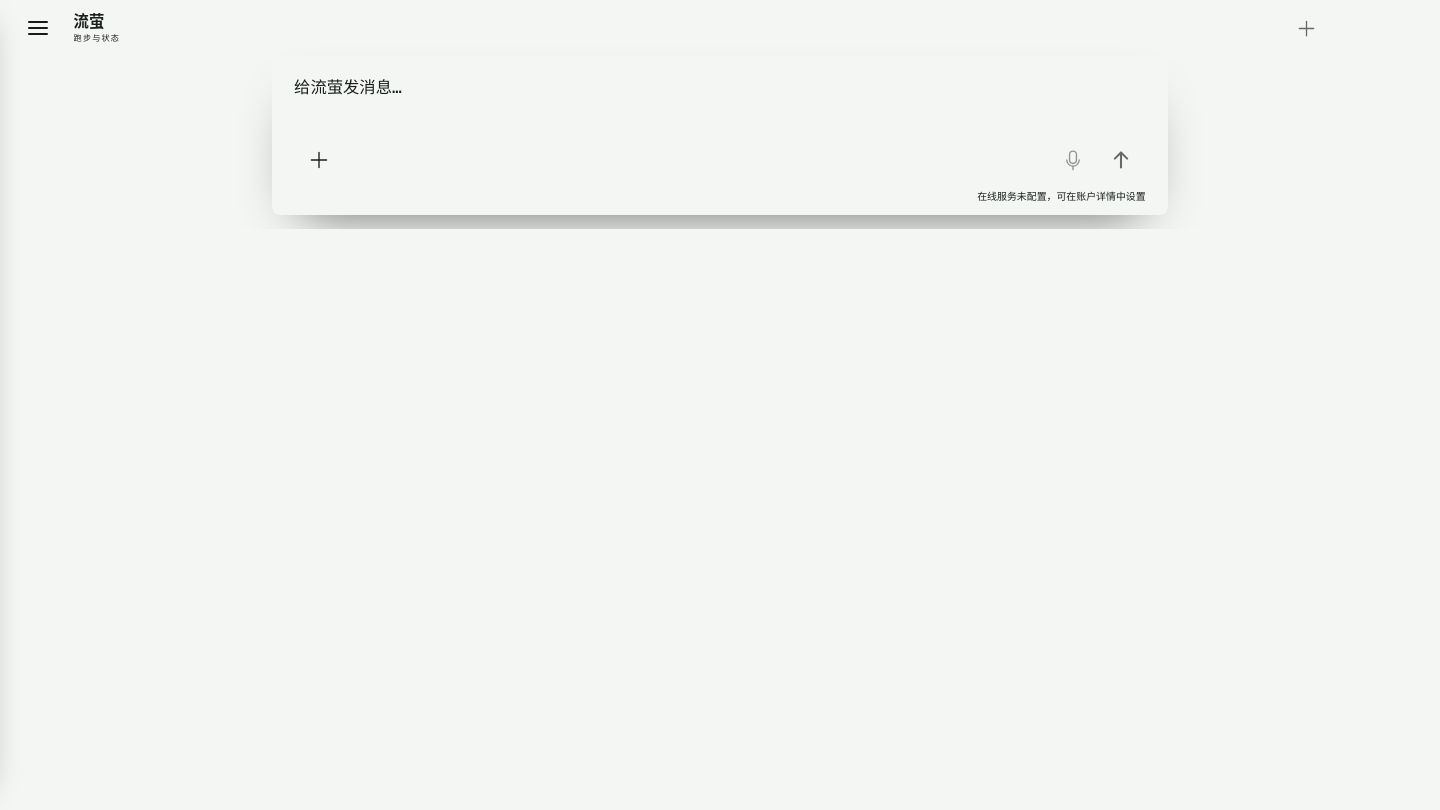
麦克风和发送为图标，低频保存藏在加号工具面板
Check: the button named "语音输入" is empty, box [1051, 138, 1095, 182]
Click the button named "更多输入选项" at (319, 160), box [297, 138, 341, 182]
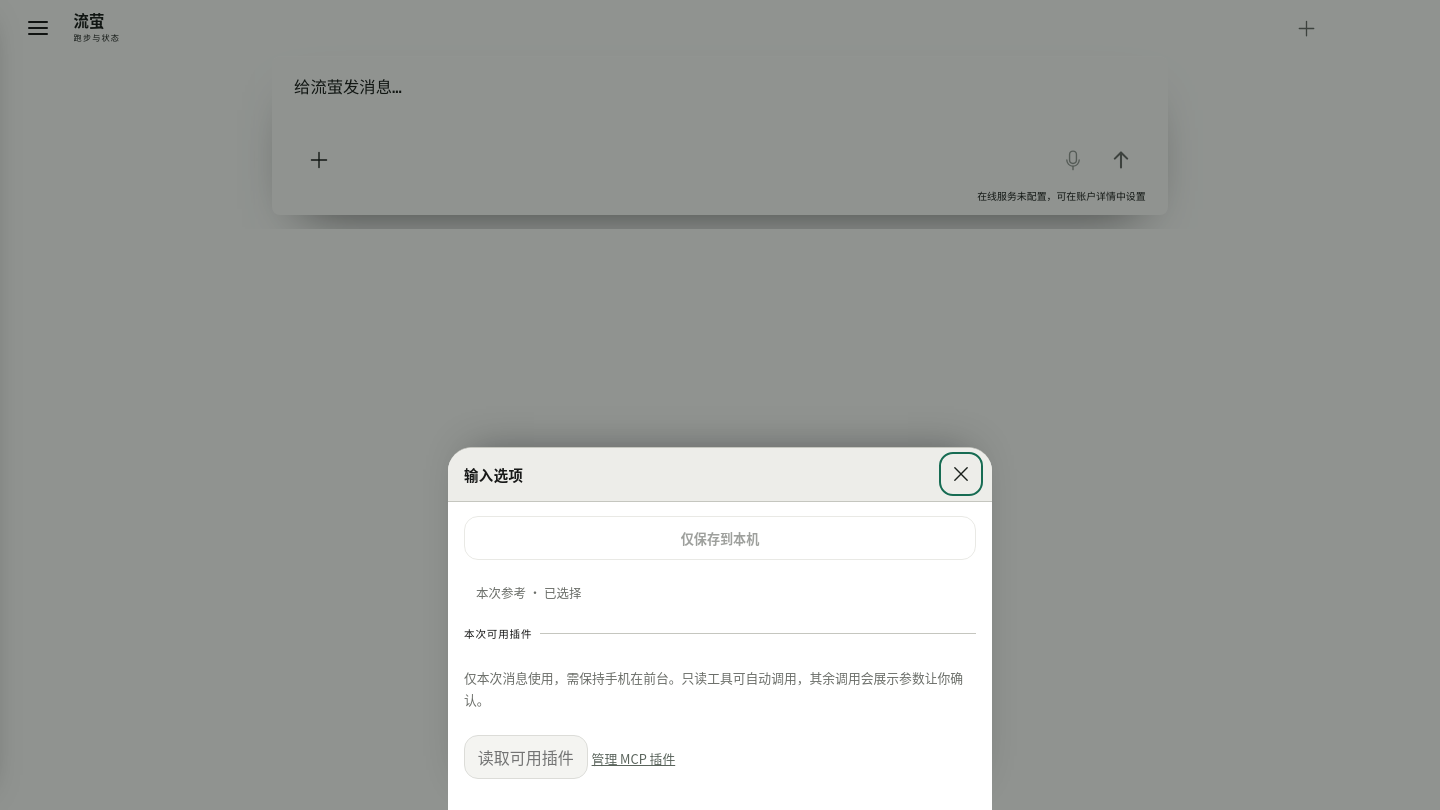
Check: the dialog "输入选项" is shown, box [448, 446, 992, 809]
Check: the button named "更多输入选项" is expanded, box [297, 138, 341, 182]
